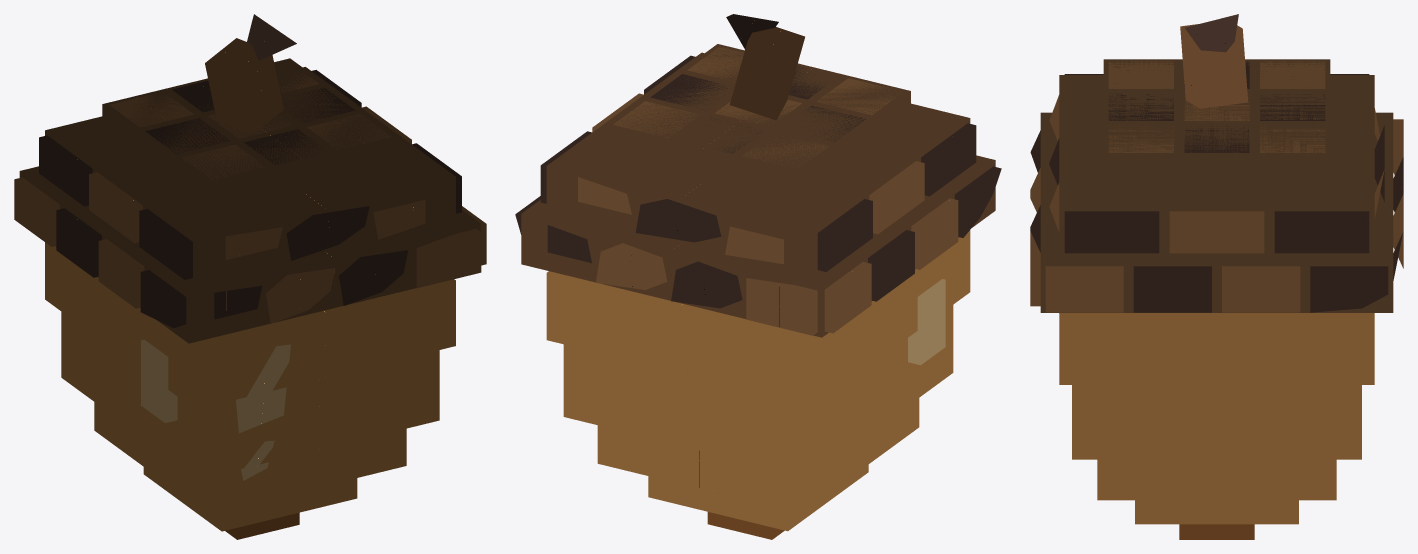
The model's file is acorn-blocky_lod1.glb.
3 renders of one model, left to right at view 1: azimuth 30°, elevation 25°; view 2: azimuth 150°, elevation 25°; view 3: azimuth 270°, elevation 25°, orthographic. The views are drawn at different scales.
Parts seen in each view (by area): view 1: cap, nut; view 2: cap, nut; view 3: cap, nut.
Boxes of the visible parts, x1,y1,x2,y2 form: cap: [14, 14, 486, 343]; nut: [45, 242, 455, 539]; cap: [515, 14, 1001, 337]; nut: [546, 230, 970, 539]; cap: [1030, 14, 1403, 312]; nut: [1059, 313, 1374, 539].
Bounding box in the file's own units: 0.296 × 0.4528 × 0.296.
